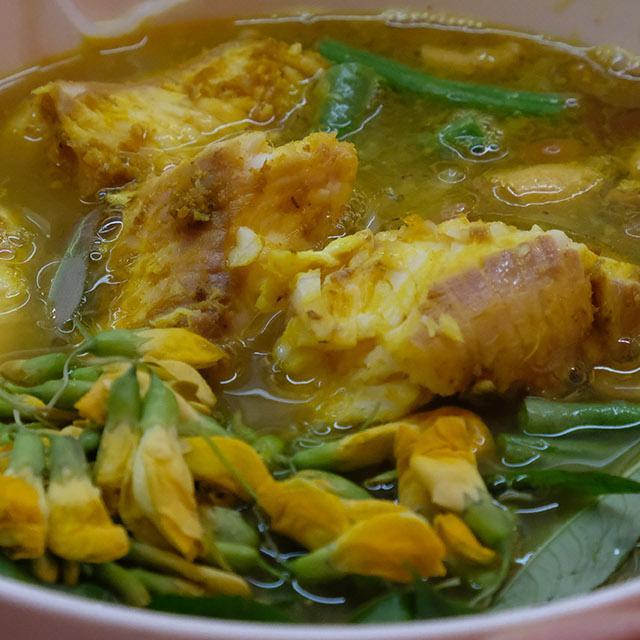ca: (246, 202, 640, 458), (87, 112, 376, 373), (25, 18, 339, 202), (0, 182, 43, 371)
rau ram: (396, 399, 640, 630), (0, 467, 44, 594)
